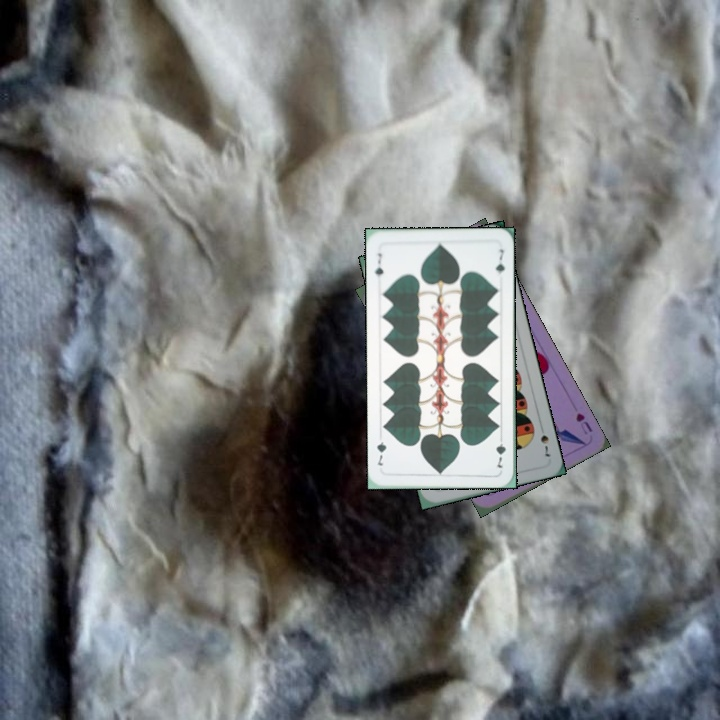G7: (492, 431, 508, 470), (371, 249, 386, 279)
HU: (572, 409, 595, 437)
S7: (536, 430, 553, 459)
